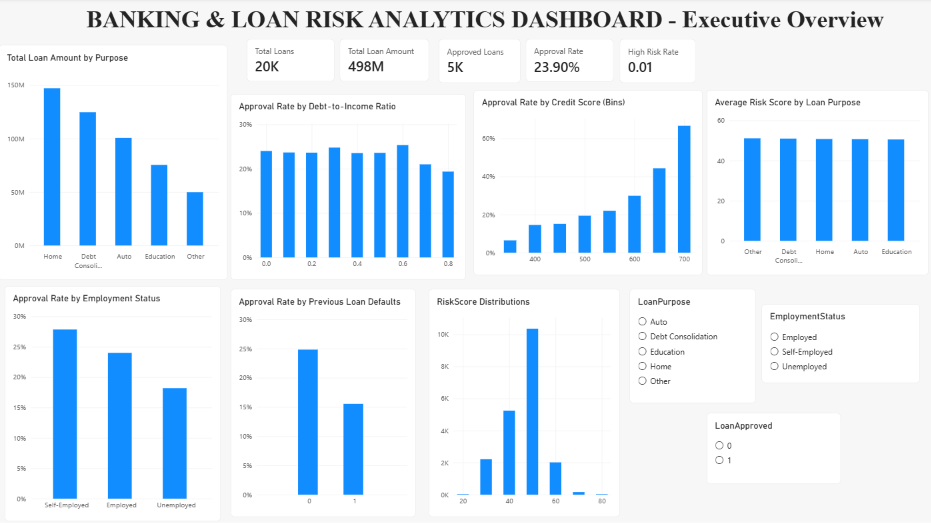

This screenshot's page, from the dashboard's own definition file:
{"tool":"powerbi","page":{"name":"Executive Overview","canvas":[1920,1080],"ordinal":0},"visuals":[{"type":"cardVisual","fields":{"Data":["LoanData.Total Loans"]},"box":[518.4,83.1,178.8,86.2],"z":0},{"type":"cardVisual","fields":{"Data":["LoanData.Total Loan Amount"]},"box":[708.4,83.1,181.2,86.2],"z":1000},{"type":"cardVisual","fields":{"Data":["LoanData.Approved Loans"]},"box":[908.4,83.1,166.3,89.2],"z":2000},{"type":"cardVisual","fields":{"Data":["LoanData.Approval Rate"]},"box":[1084.8,83.1,178.4,87.2],"z":3000},{"type":"clusteredColumnChart","title":"Total Loan Amount by Purpose","fields":{"Category":["LoanData.LoanPurpose"],"Y":["Sum(LoanData.LoanAmount)"]},"box":[16,96,463.9,475.9],"z":4000},{"type":"clusteredColumnChart","title":"Approval Rate by Employment Status","fields":{"Category":["LoanData.EmploymentStatus"],"Y":["LoanData.Approval Rate"]},"box":[28.4,583.9,438,476.5],"z":5000},{"type":"clusteredColumnChart","title":"Average Risk Score by Loan Purpose","fields":{"Category":["LoanData.LoanPurpose"],"Y":["Avg(LoanData.RiskScore)"]},"box":[1451.7,186.5,450.1,375.1],"z":6000},{"type":"clusteredColumnChart","title":"Approval Rate by Credit Score (Bins)","fields":{"Category":["LoanData.CreditScore (bins)"],"Y":["LoanData.Approval Rate"]},"box":[979.3,186.5,464.3,375.1],"z":7000},{"type":"clusteredColumnChart","title":"Approval Rate by Debt-to-Income Ratio ","fields":{"Category":["LoanData.DebtToIncomeRatio (bins)"],"Y":["LoanData.Approval Rate"]},"box":[486,194,476.7,376.7],"z":8000},{"type":"clusteredColumnChart","title":"Approval Rate by Previous Loan Defaults","fields":{"Category":["LoanData.PreviousLoanDefaults"],"Y":["LoanData.Approval Rate"]},"box":[486.6,590,375.1,462.3],"z":9000},{"type":"clusteredColumnChart","title":"RiskScore Distributions","fields":{"Category":["LoanData.RiskScore (bins)"],"Y":["CountNonNull(LoanData.RiskScore)"]},"box":[888.1,590,387.3,462.3],"z":10000},{"type":"cardVisual","fields":{"Data":["LoanData.High Risk Rate"]},"box":[1275.3,83.1,154.1,89.2],"z":11000},{"type":"listSlicer","fields":{"Values":["LoanData.LoanPurpose"]},"box":[1295.6,590,255.5,231.1],"z":12000},{"type":"listSlicer","fields":{"Values":["LoanData.EmploymentStatus"]},"box":[1563.3,620.4,320.4,160.2],"z":13000},{"type":"listSlicer","fields":{"Values":["LoanData.LoanApproved"]},"box":[1451.7,841.4,271.7,144],"z":14000},{"type":"textbox","box":[85.1,17,1834.9,82.6],"z":15000}]}

Visuals, with their boxes in screenshot pixels (x1, y1, x2, y2), scaled from the page's 1920x1080 canvas onto the 931x523 screenshot:
cardVisual - LoanData.Total Loans: detection(251, 40, 338, 82)
cardVisual - LoanData.Total Loan Amount: detection(344, 40, 431, 82)
cardVisual - LoanData.Approved Loans: detection(440, 40, 521, 83)
cardVisual - LoanData.Approval Rate: detection(526, 40, 613, 82)
"Total Loan Amount by Purpose" clusteredColumnChart: detection(8, 46, 233, 277)
"Approval Rate by Employment Status" clusteredColumnChart: detection(14, 283, 226, 514)
"Average Risk Score by Loan Purpose" clusteredColumnChart: detection(704, 90, 922, 272)
"Approval Rate by Credit Score (Bins)" clusteredColumnChart: detection(475, 90, 700, 272)
"Approval Rate by Debt-to-Income Ratio " clusteredColumnChart: detection(236, 94, 467, 276)
"Approval Rate by Previous Loan Defaults" clusteredColumnChart: detection(236, 286, 418, 510)
"RiskScore Distributions" clusteredColumnChart: detection(431, 286, 618, 510)
cardVisual - LoanData.High Risk Rate: detection(618, 40, 693, 83)
listSlicer - LoanData.LoanPurpose: detection(628, 286, 752, 398)
listSlicer - LoanData.EmploymentStatus: detection(758, 300, 913, 378)
listSlicer - LoanData.LoanApproved: detection(704, 407, 836, 477)
textbox: detection(41, 8, 930, 48)
